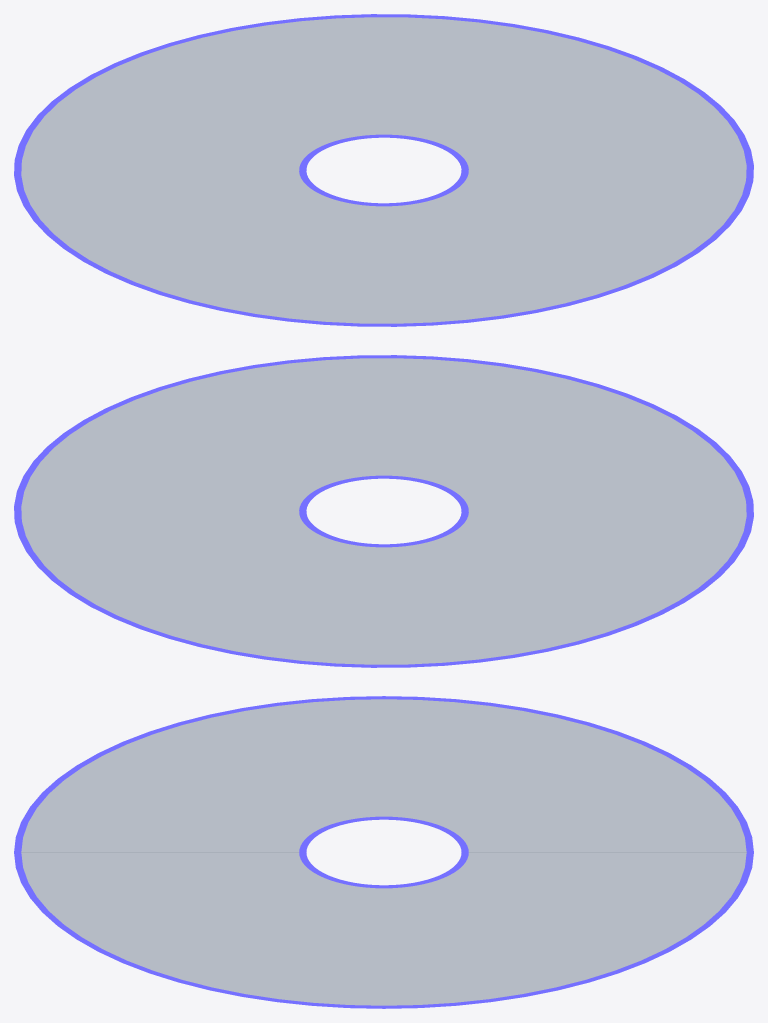
Rendered from Ship.gltf.
3 renders of one model, top to bottom at view 1: azimuth 30°, elevation 25°; view 2: azimuth 150°, elevation 25°; view 3: azimuth 270°, elevation 25°, orthographic.
Visible parts, largest first — view 1: Cylinder; view 2: Cylinder; view 3: Cylinder.
Boxes of the visible parts, bbox=[...] form: Cylinder: bbox=[14, 14, 753, 326]; Cylinder: bbox=[14, 355, 753, 667]; Cylinder: bbox=[14, 696, 753, 1008].
Size of what is drawn, in the model's own units: 2 by 0 by 2.
